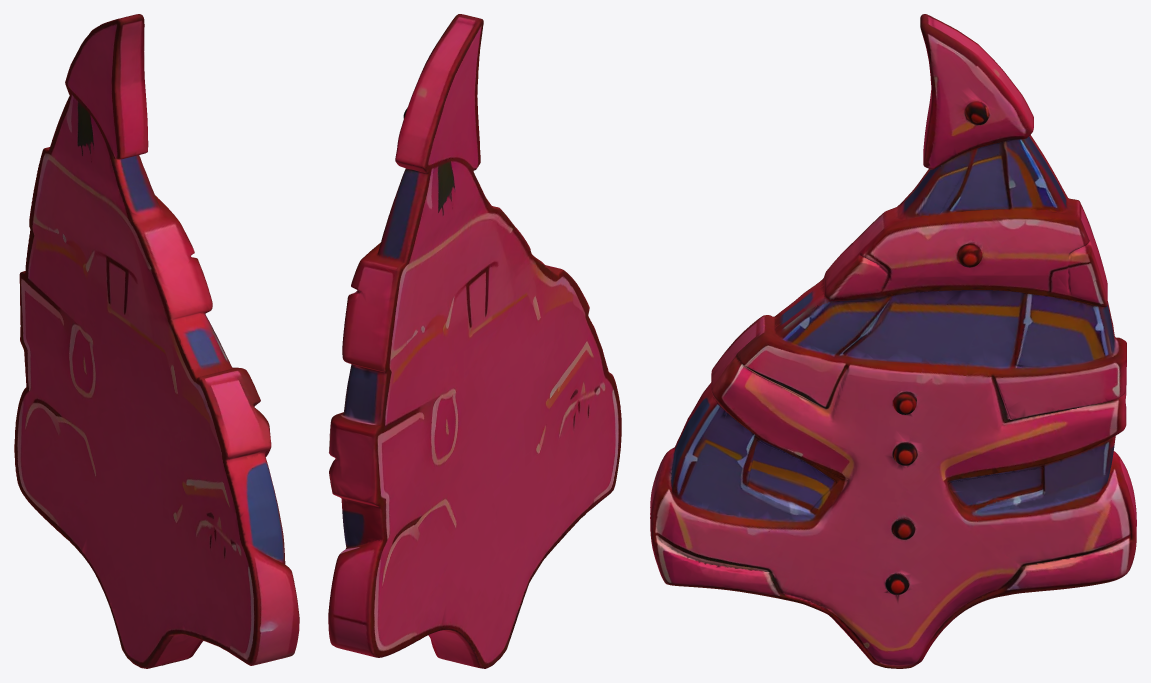
File: 09_001_Horns_Phi-Phi-Horn.glb
3 renders of one model, left to right at view 1: azimuth 30°, elevation 25°; view 2: azimuth 150°, elevation 25°; view 3: azimuth 270°, elevation 25°, orthographic. The views are drawn at different scales.
Visible parts, largest first — view 1: tripo_node_6e62d9c3-3e12-42d6-ac6a-657a68167341; view 2: tripo_node_6e62d9c3-3e12-42d6-ac6a-657a68167341; view 3: tripo_node_6e62d9c3-3e12-42d6-ac6a-657a68167341.
Part boxes in pixels (left/top/right/bottom): tripo_node_6e62d9c3-3e12-42d6-ac6a-657a68167341: left=14, top=14, right=299, bottom=668; tripo_node_6e62d9c3-3e12-42d6-ac6a-657a68167341: left=328, top=14, right=621, bottom=668; tripo_node_6e62d9c3-3e12-42d6-ac6a-657a68167341: left=650, top=14, right=1136, bottom=668.
Bounding box in the file's own units: 0.11 × 0.9999 × 0.6966.
Materials: 1 (1 with a texture image).
